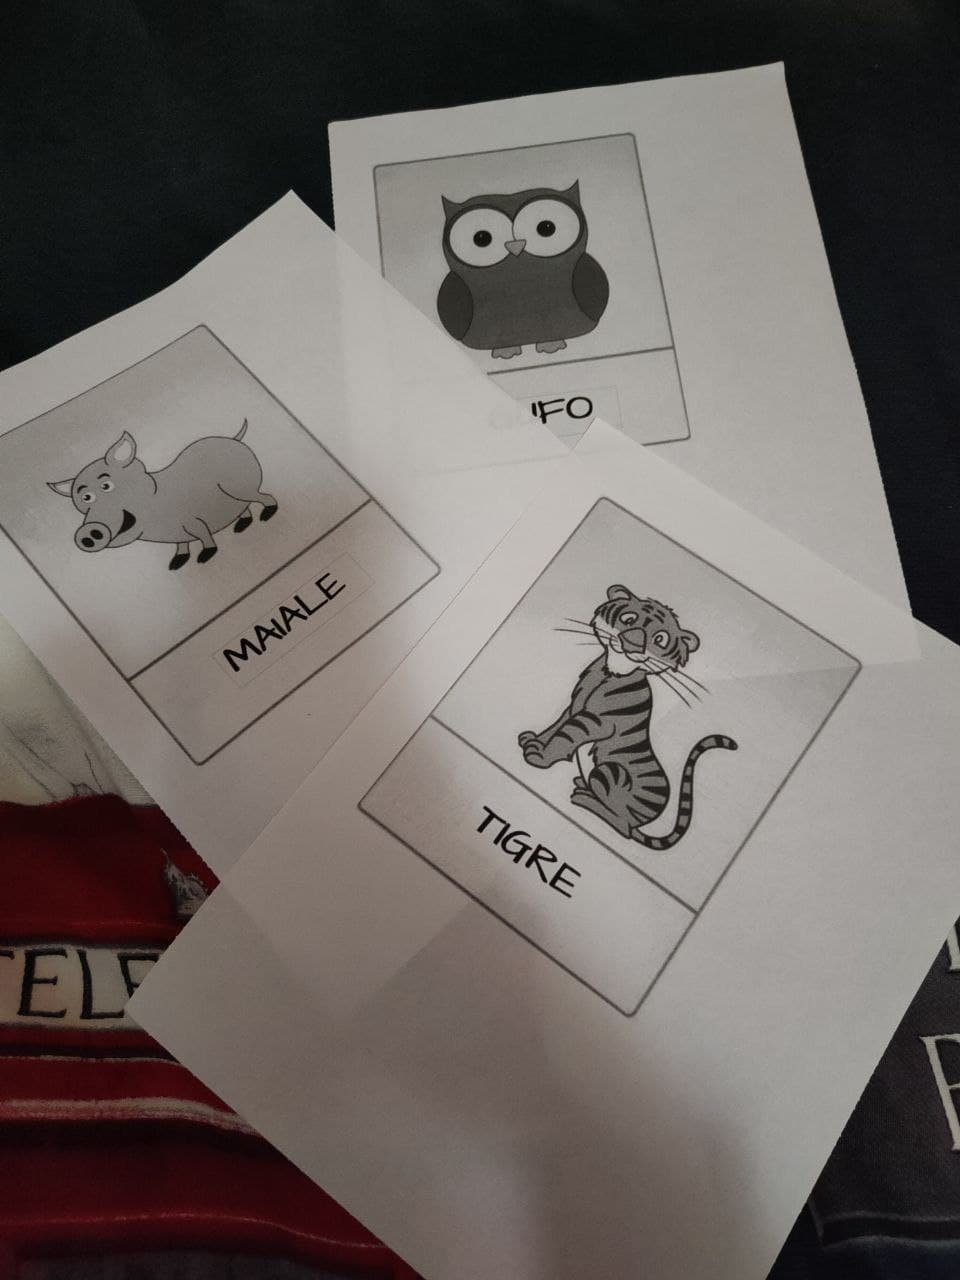gufo: (413, 177, 651, 437)
maiale: (41, 404, 388, 689)
tigre: (428, 580, 744, 964)
